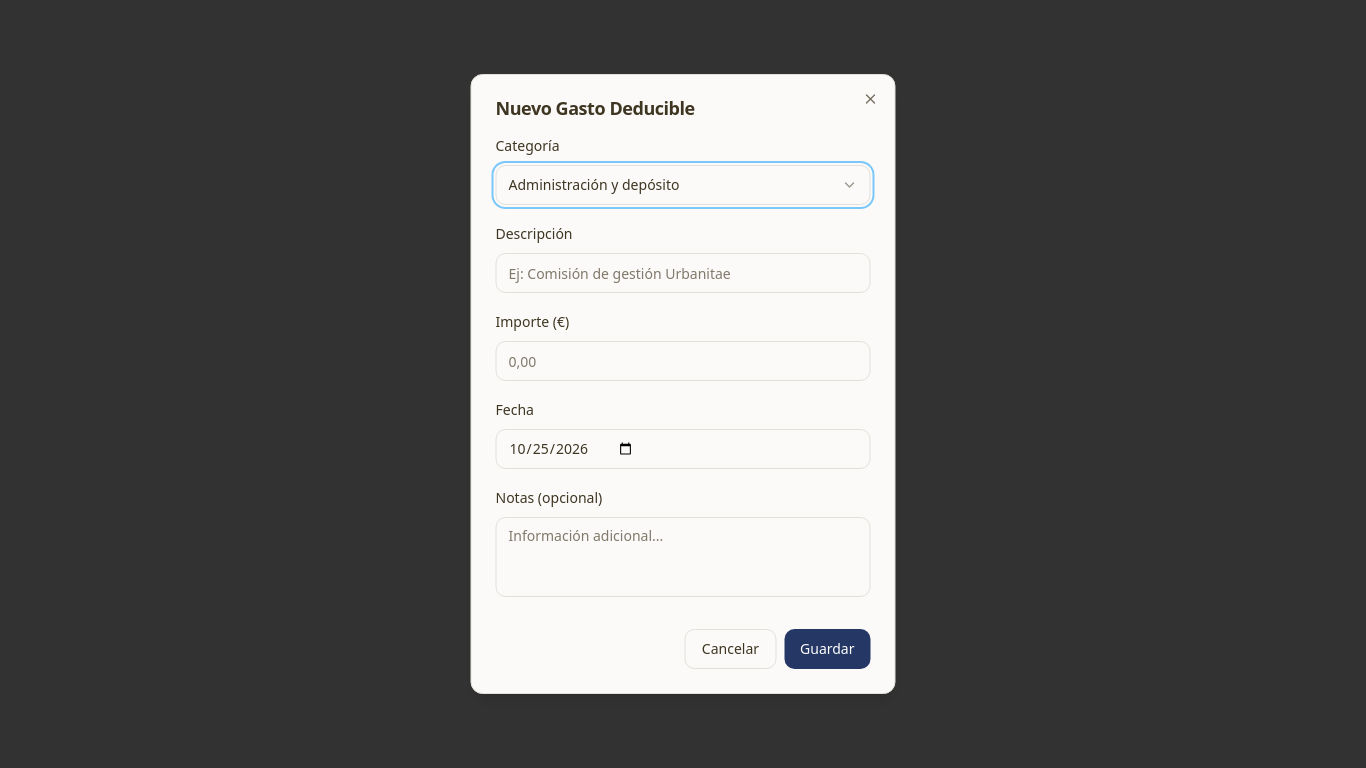
Test: TaxExpenseForm — importe en formato español › formato no válido no se guarda
The image size is (1366, 768).
Type "Comisión" into the field with placeholder "Ej: Comisión de gestión Urbanitae" at coordinates (683, 273), box [496, 253, 870, 293]
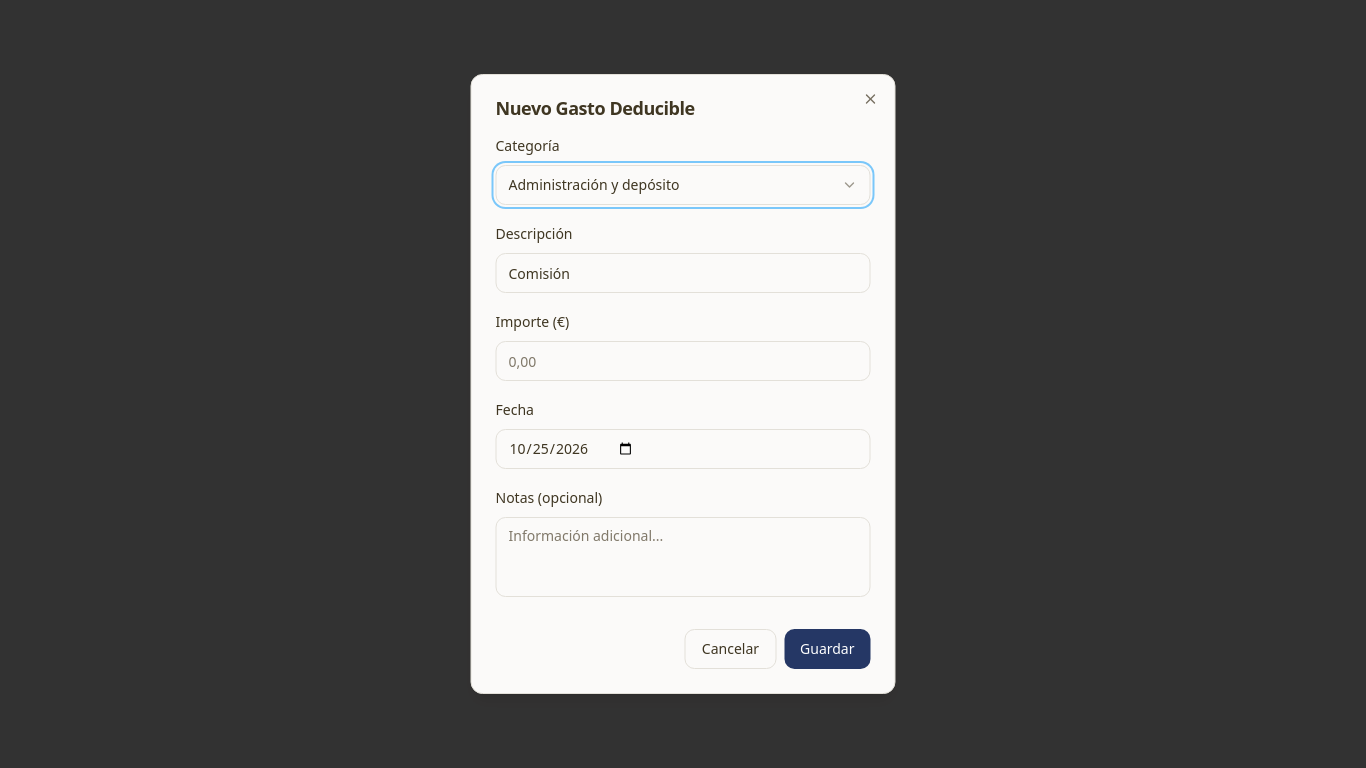
Type "1,500.50" into the field with placeholder "0,00" at coordinates (683, 361), box [496, 341, 870, 381]
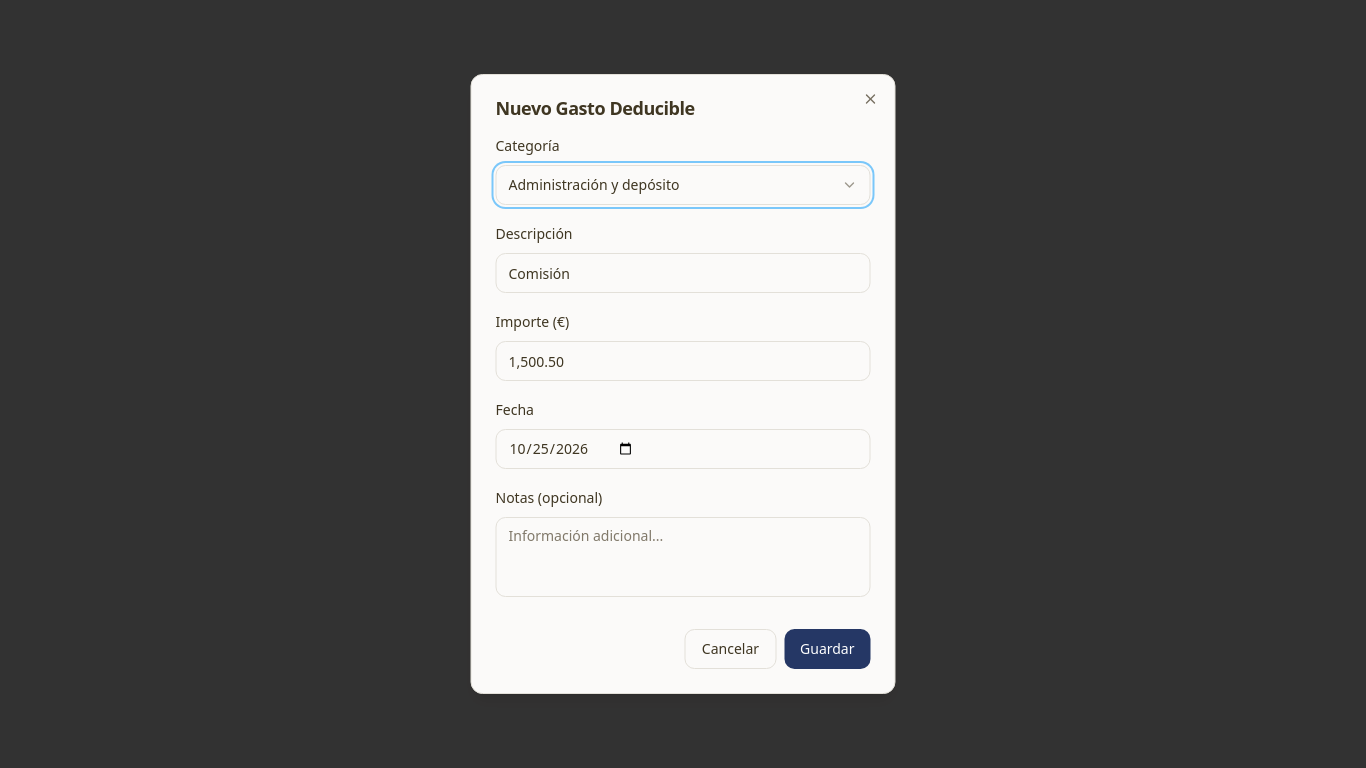
Click the button "Guardar" at coordinates (827, 649), box [784, 629, 870, 669]
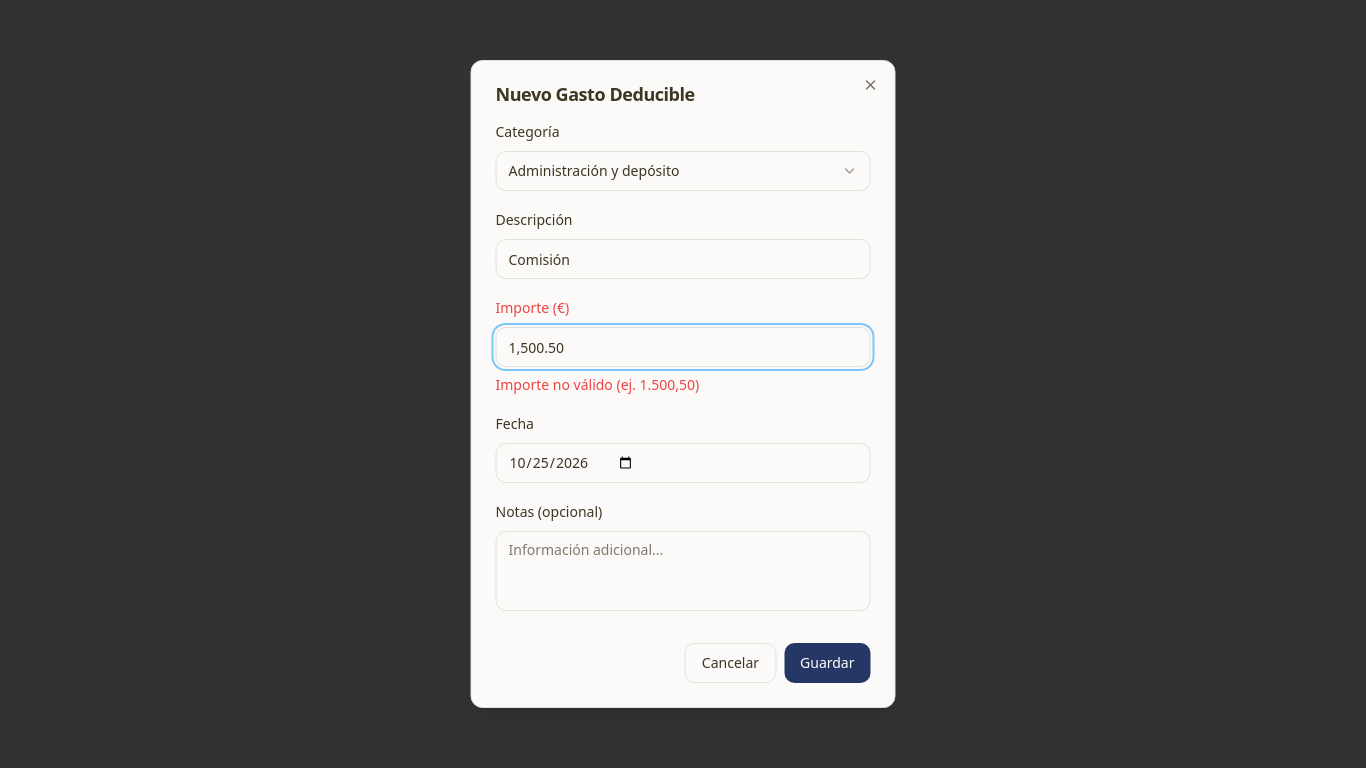
Check: the text "Importe no válido (ej. 1.500,50)" is shown, box [496, 375, 699, 394]
